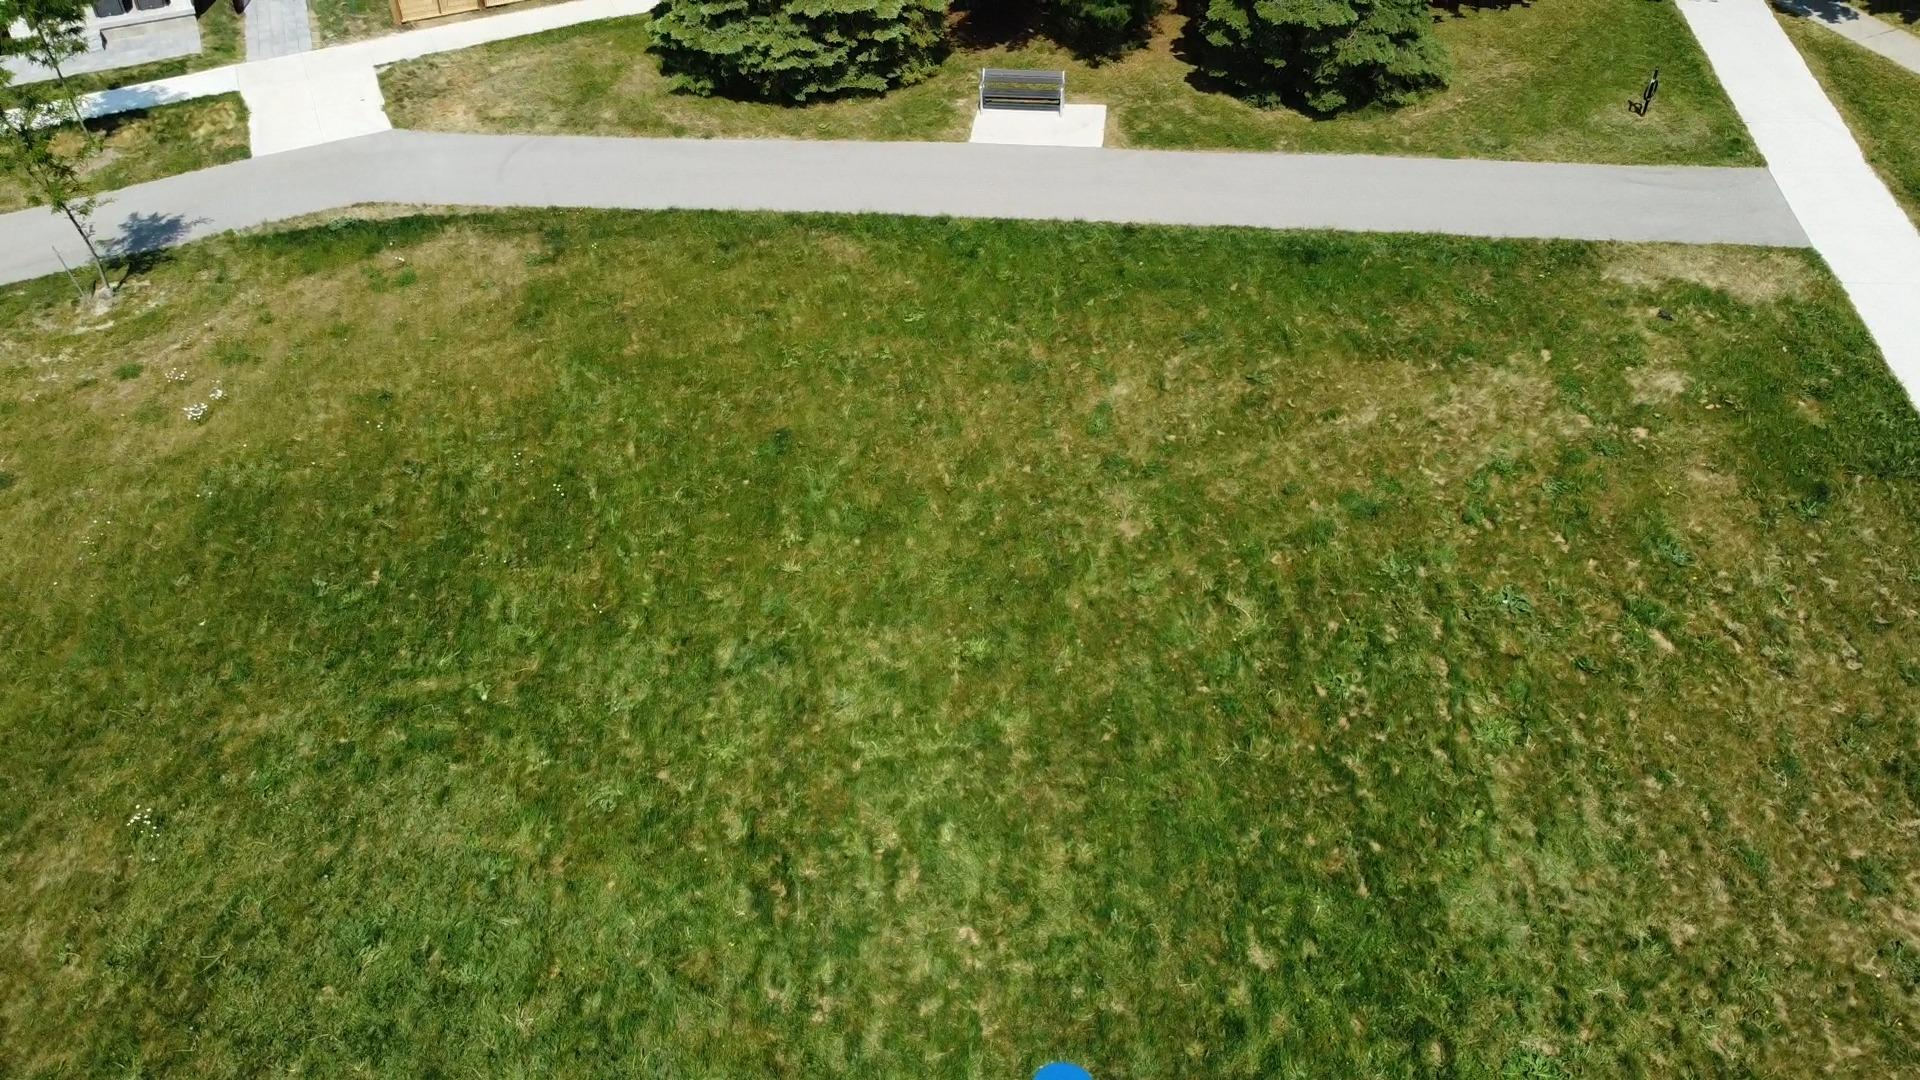Blue: (1027, 1062, 1096, 1080)
